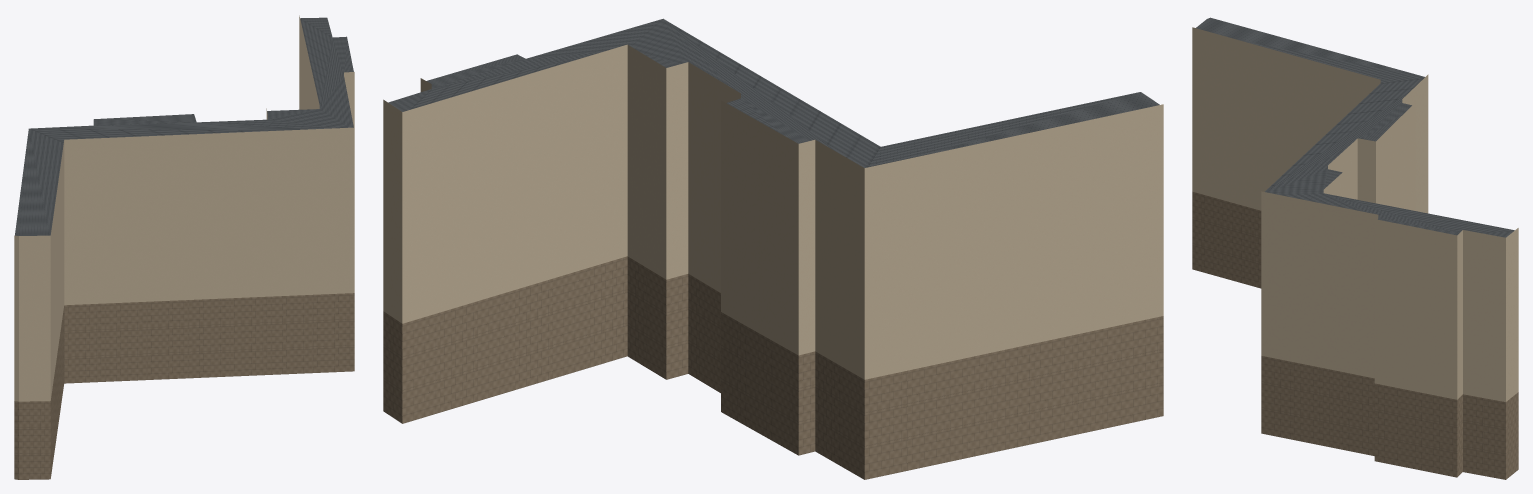
The model's file is bld_c0_-3_554.gltf.
3 renders of one model, left to right at view 1: azimuth 30°, elevation 25°; view 2: azimuth 150°, elevation 25°; view 3: azimuth 270°, elevation 25°, orthographic. The views are drawn at different scales.
Visible parts, largest first — view 1: bld_c0_-3_554; view 2: bld_c0_-3_554; view 3: bld_c0_-3_554.
Part boxes in pixels (left/top/right/bottom): bld_c0_-3_554: left=14, top=15, right=354, bottom=479; bld_c0_-3_554: left=383, top=18, right=1163, bottom=479; bld_c0_-3_554: left=1192, top=17, right=1518, bottom=479.
Size of the model in its own units: 31.46 by 15.88 by 19.4.
4 materials, 4 textured.
